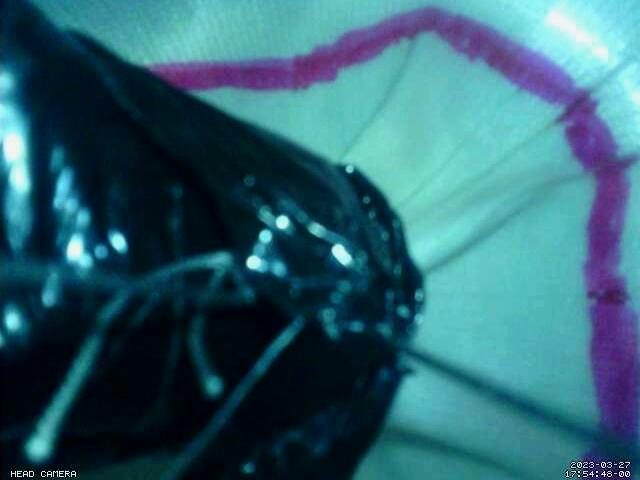red-circle: (145, 5, 640, 480)
